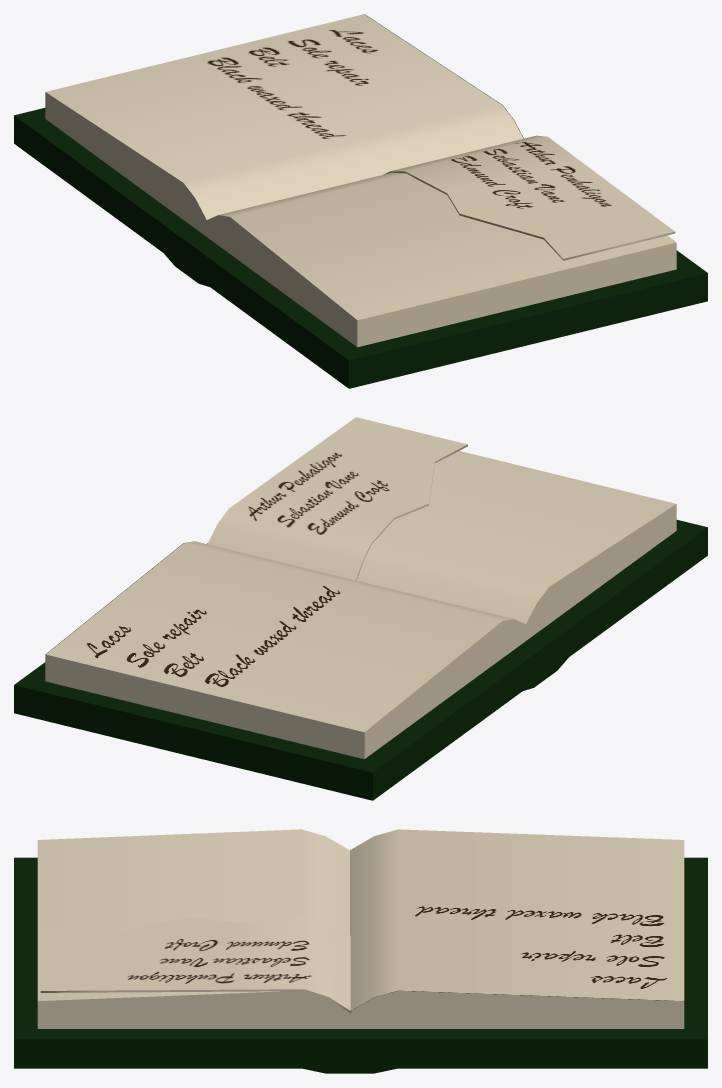
The model's file is F_Journal.fbx.
The picture shows the model from 3 angles, top to bottom: view 1: azimuth 30°, elevation 25°; view 2: azimuth 150°, elevation 25°; view 3: azimuth 270°, elevation 25°; orthographic projection. The views are drawn at different scales.
Visible parts, largest first — view 1: F_Journal; view 2: F_Journal; view 3: F_Journal.
Boxes of the visible parts, x1,y1,x2,y2 form: F_Journal: (14, 14, 707, 388); F_Journal: (14, 417, 707, 800); F_Journal: (14, 829, 707, 1073).
Bounding box in the file's own units: 33.29 × 6.36 × 53.83.
